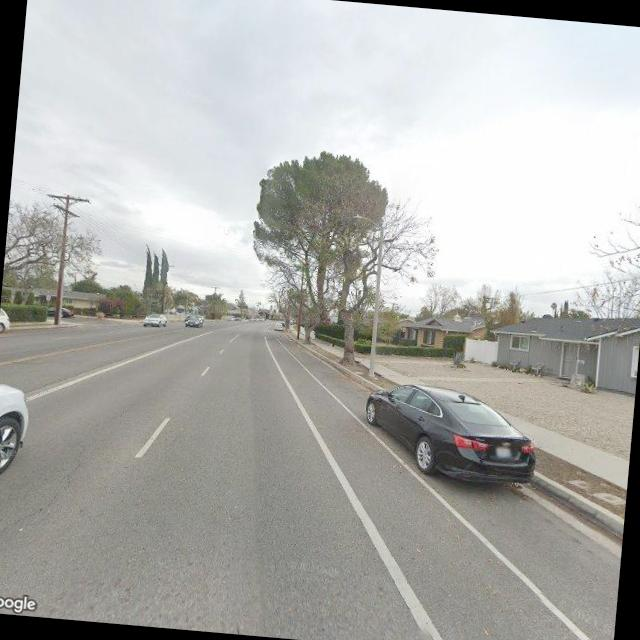pothole: (0, 434, 91, 548)
